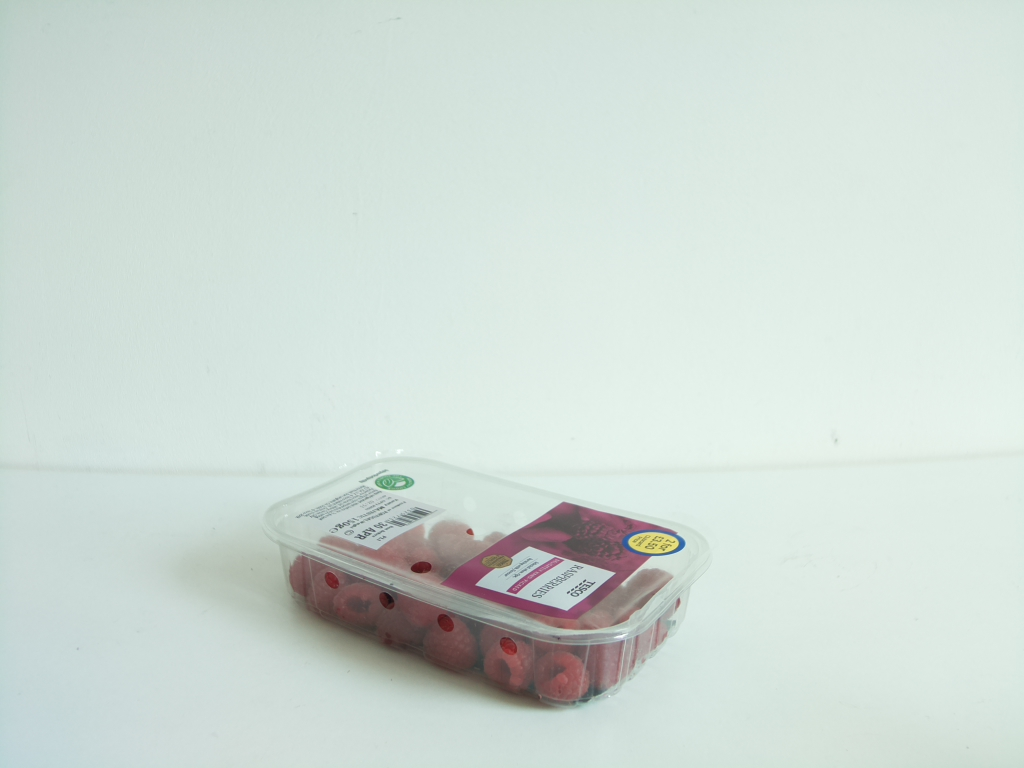soft-fruit: (270, 456, 701, 710)
